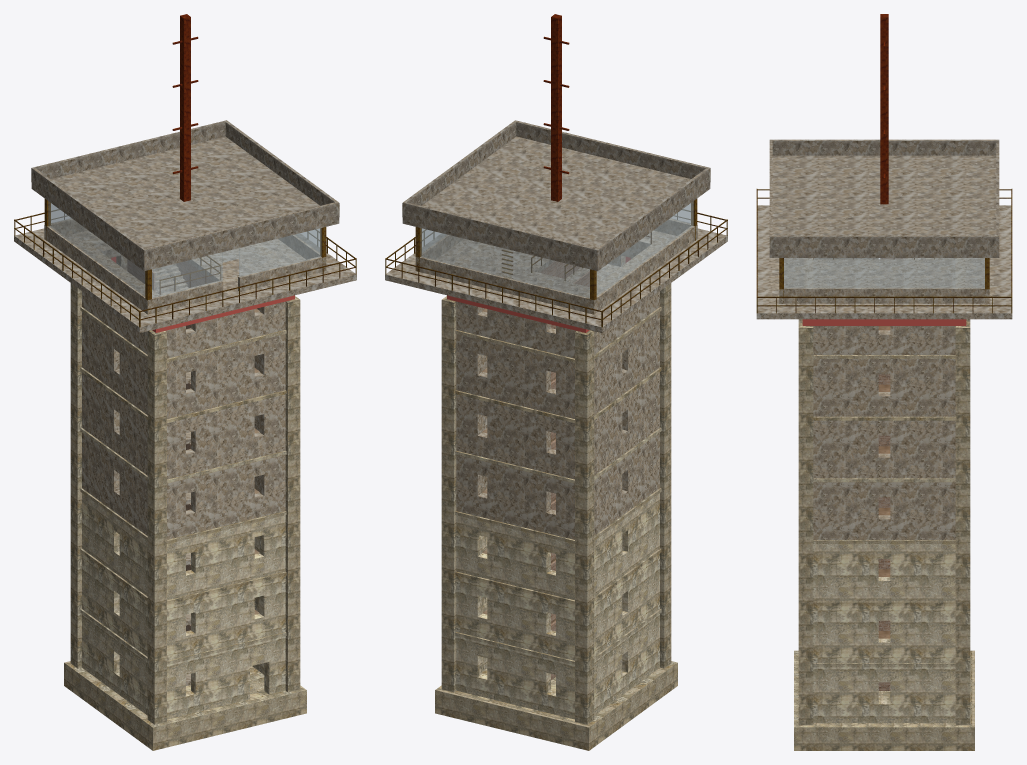
File: bw-tower.glass-v1.lod0.glb
3 renders of one model, left to right at view 1: azimuth 30°, elevation 25°; view 2: azimuth 150°, elevation 25°; view 3: azimuth 270°, elevation 25°, orthographic.
Parts seen in each view (by area): view 1: bw-tower; view 2: bw-tower; view 3: bw-tower.
Boxes of the visible parts, left/top/right/bottom form: bw-tower: left=14, top=14, right=356, bottom=750; bw-tower: left=385, top=14, right=727, bottom=750; bw-tower: left=756, top=14, right=1012, bottom=750.
Bounding box in the file's own units: 15.83 × 47.5 × 15.83.
7 materials, 5 textured.
